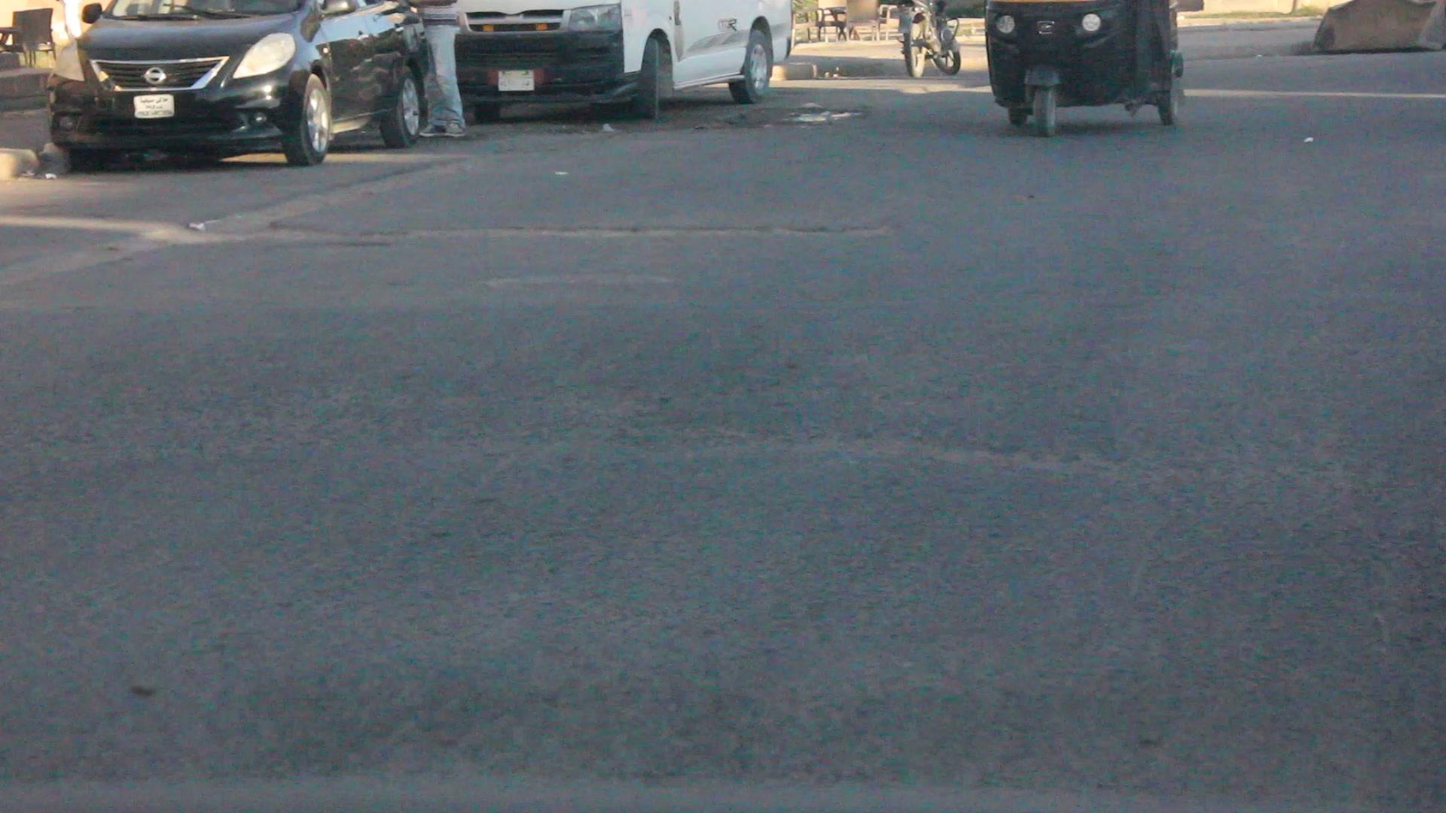Pothole: (250, 215, 900, 247)
